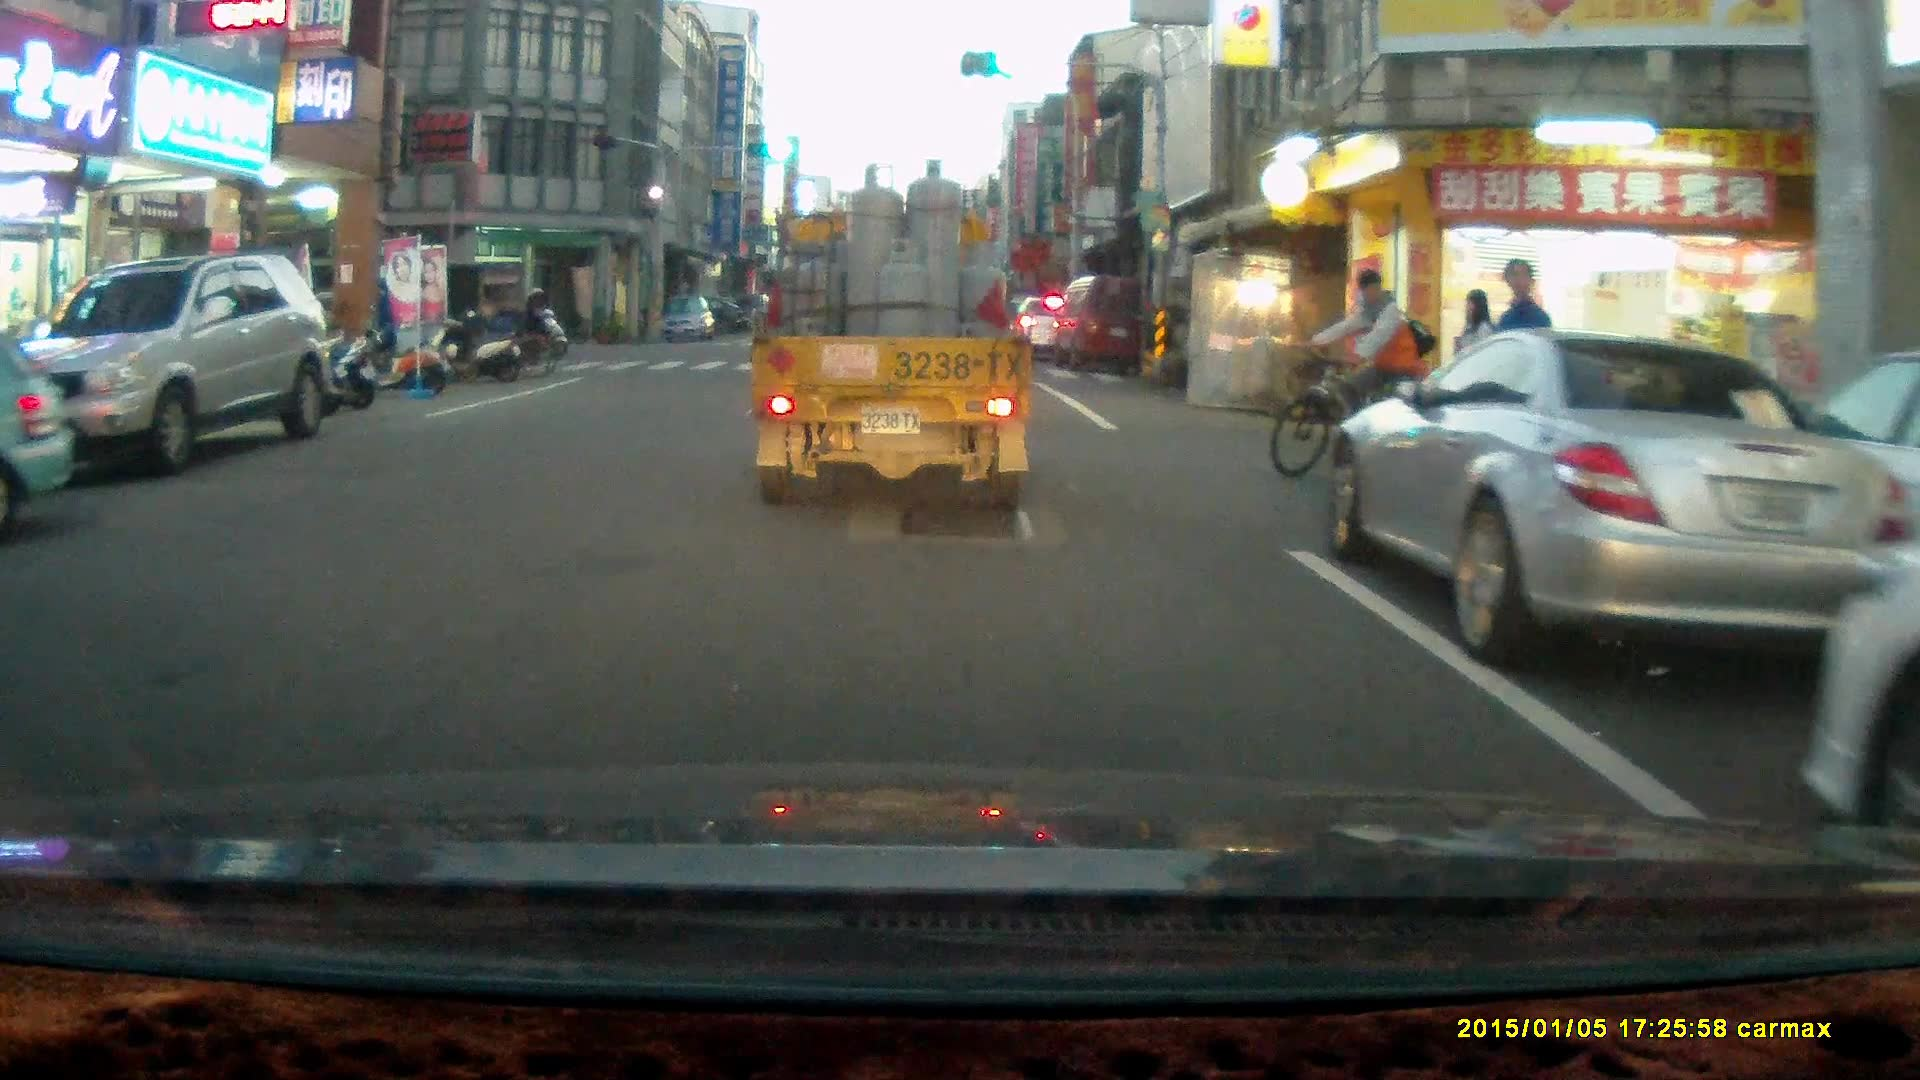rider: (1272, 267, 1454, 482), (503, 282, 567, 363)
vehicle: (1327, 331, 1875, 669), (750, 162, 1036, 515), (4, 250, 340, 478), (333, 261, 525, 365), (1055, 274, 1158, 372), (1019, 297, 1088, 361), (656, 292, 721, 349)
